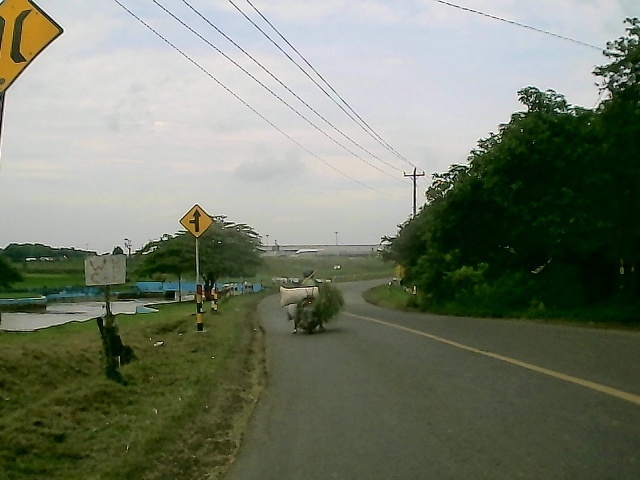Simpang kiri dengan prioritas: (178, 202, 212, 238)
